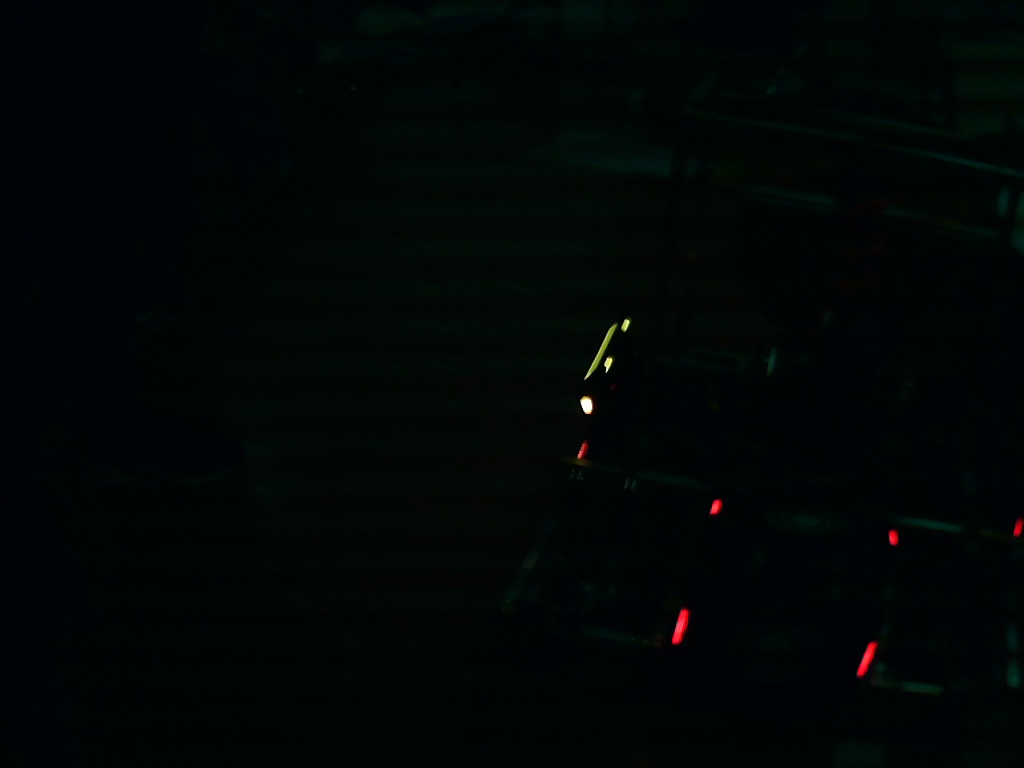lamp: (855, 638, 880, 679), (671, 606, 692, 648)
